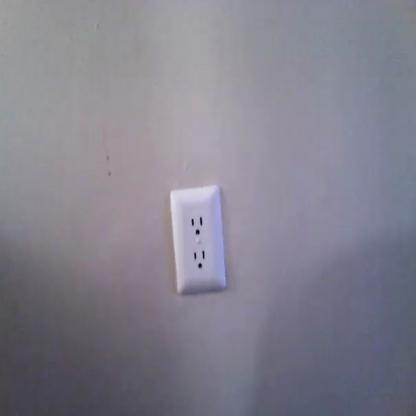OUTLET: (168, 190, 225, 290)
